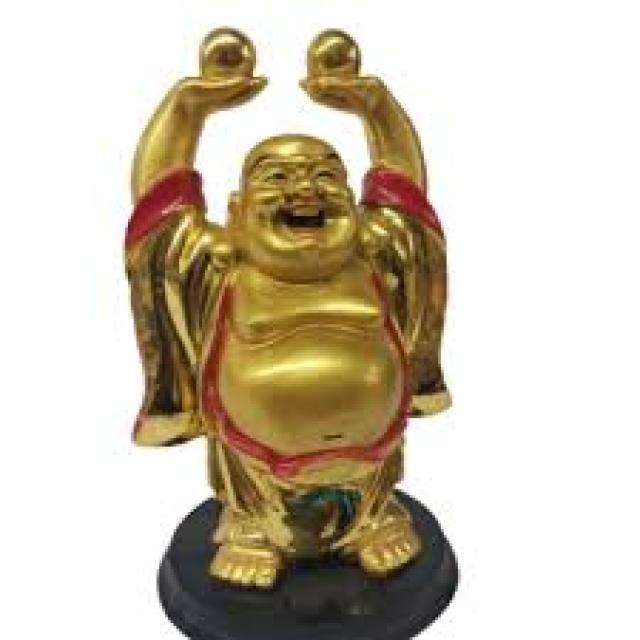Smiling Buddha: (126, 118, 434, 564)
